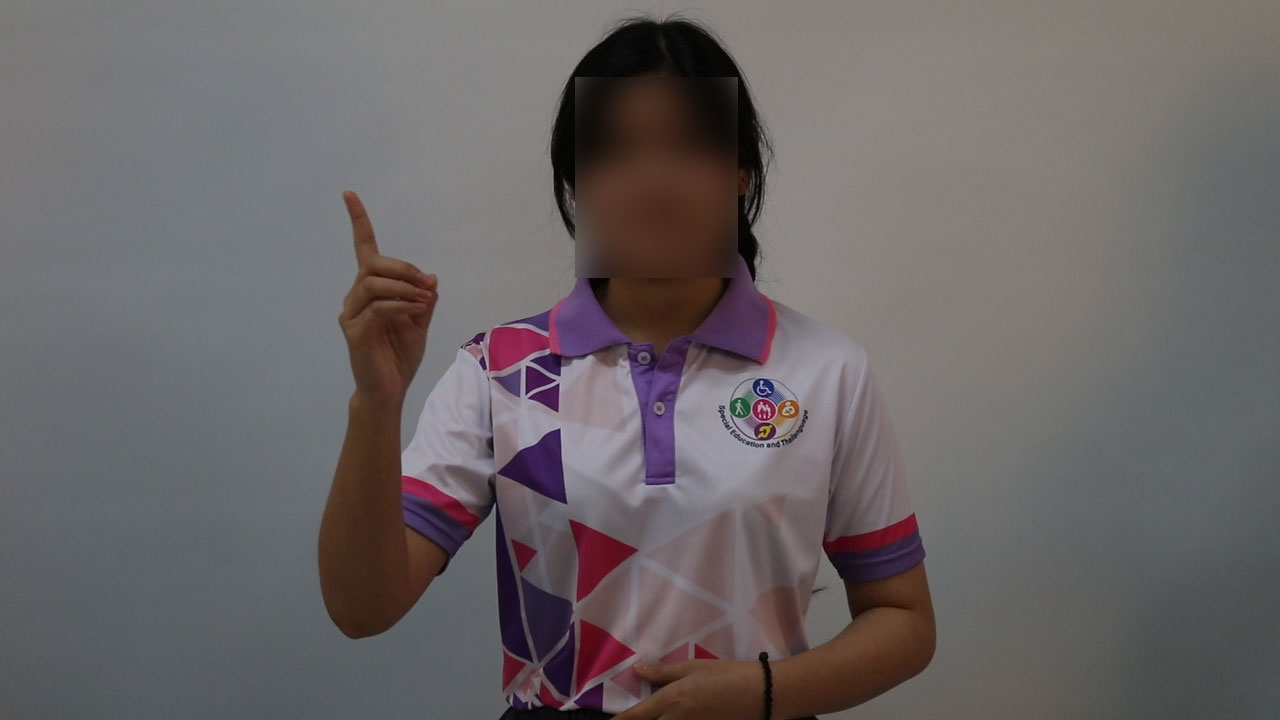dor: (319, 181, 457, 408)
